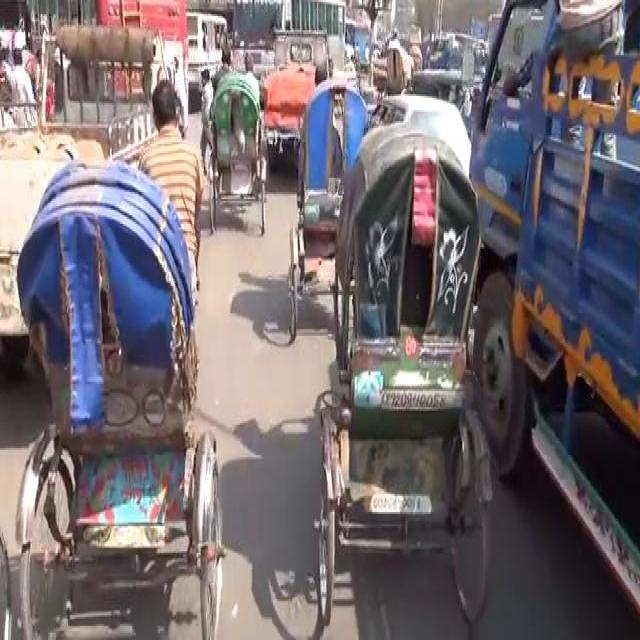bus: (25, 0, 188, 52), (230, 0, 351, 69), (187, 6, 231, 104)
car: (368, 87, 472, 173)
pickup: (468, 0, 638, 622), (2, 23, 190, 340), (262, 26, 332, 173)
rickshaw: (10, 157, 226, 632), (307, 120, 498, 630), (286, 72, 370, 344), (206, 69, 268, 240), (382, 38, 403, 94)
